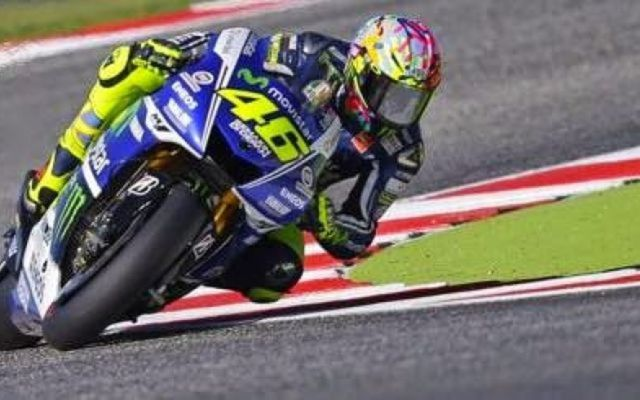helmet: (347, 17, 442, 135)
